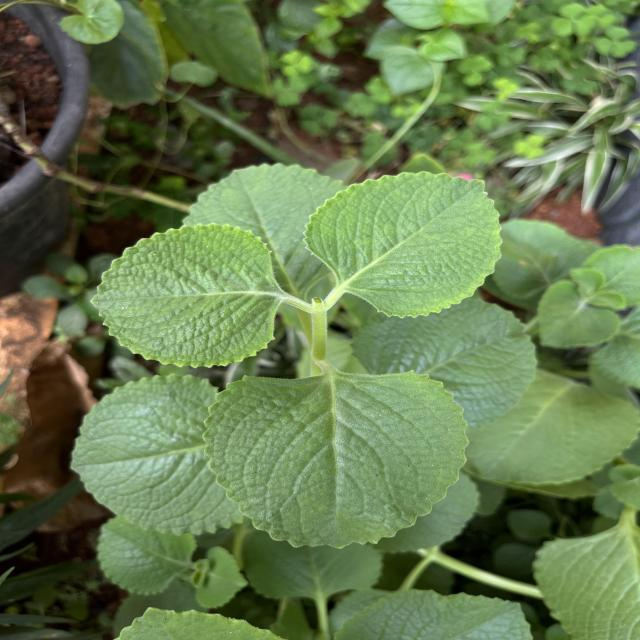Plectranthus barbatus: (203, 370, 469, 548), (303, 168, 502, 318), (69, 373, 248, 537), (92, 222, 284, 369), (95, 514, 197, 596), (536, 280, 620, 350)
